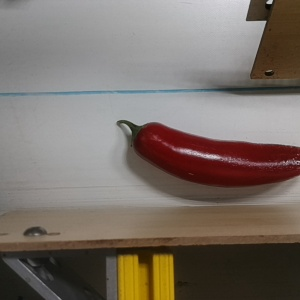Cut Point: (126, 121, 164, 152)
